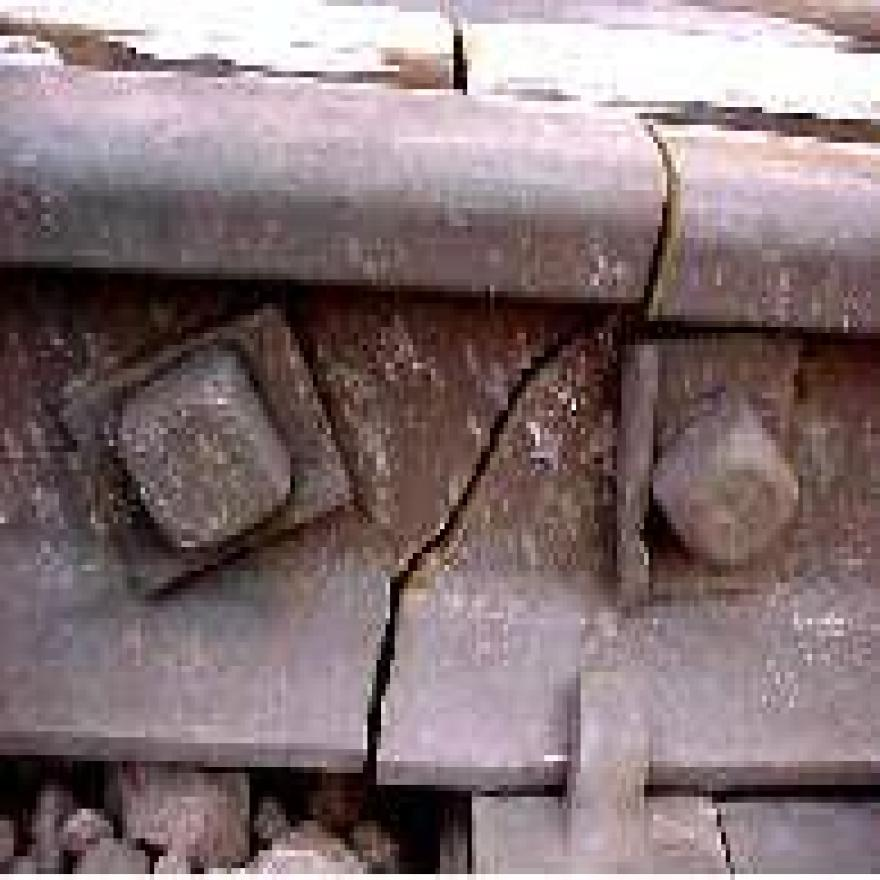railway-gap: (327, 110, 709, 822), (411, 13, 518, 102)
